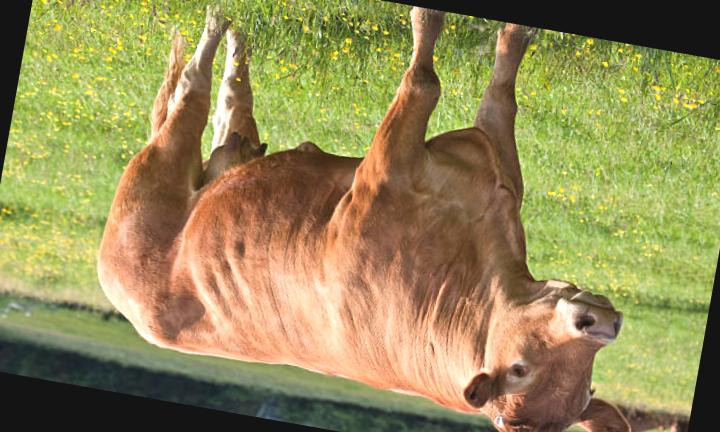Charolais: (97, 6, 629, 432)
